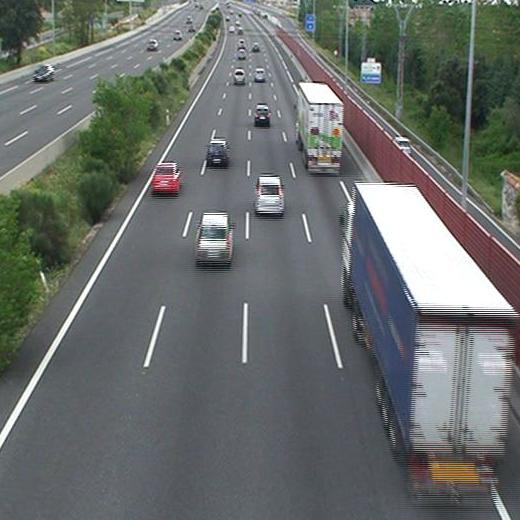car: (196, 213, 232, 262), (255, 176, 284, 213), (152, 163, 180, 193), (206, 140, 229, 164), (254, 106, 270, 124), (233, 70, 246, 84), (254, 69, 266, 82), (237, 50, 245, 59), (251, 42, 259, 51)
truck: (342, 183, 516, 495), (296, 83, 342, 172)
